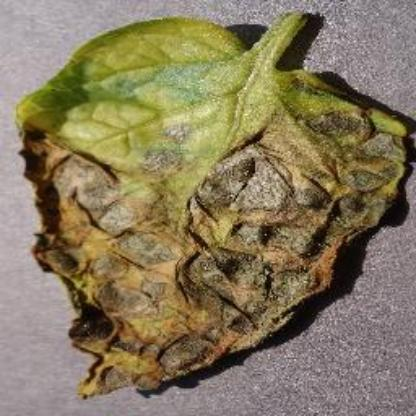Early-Blight: (10, 2, 416, 406)
